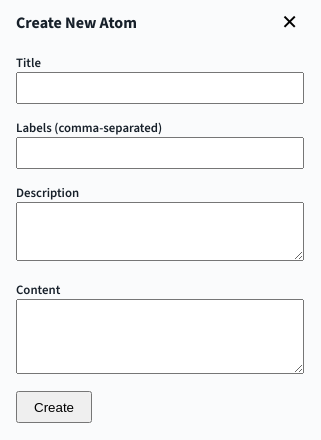
Test: DetailPanel — creation mode › shows "Creating…" on submit button while saving
Step 1. Type "Test" into the field labelled "Title" → {"x": 160, "y": 88}, box left=16, top=72, right=304, bottom=104
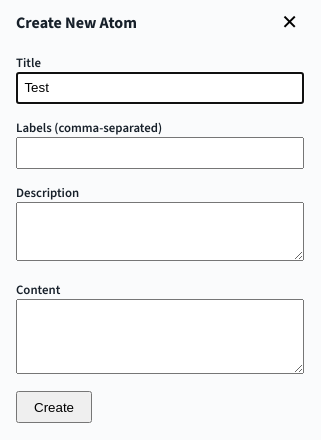
Step 2. Click the button "Create" → {"x": 54, "y": 407}, box left=16, top=391, right=92, bottom=423
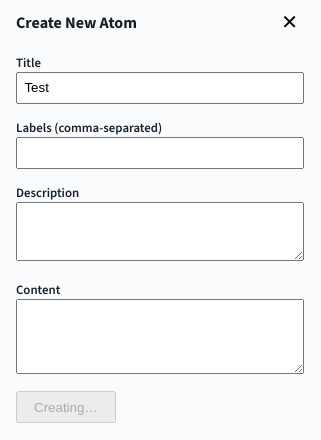
Now the button "Creating…" is disabled, box left=16, top=391, right=116, bottom=423
